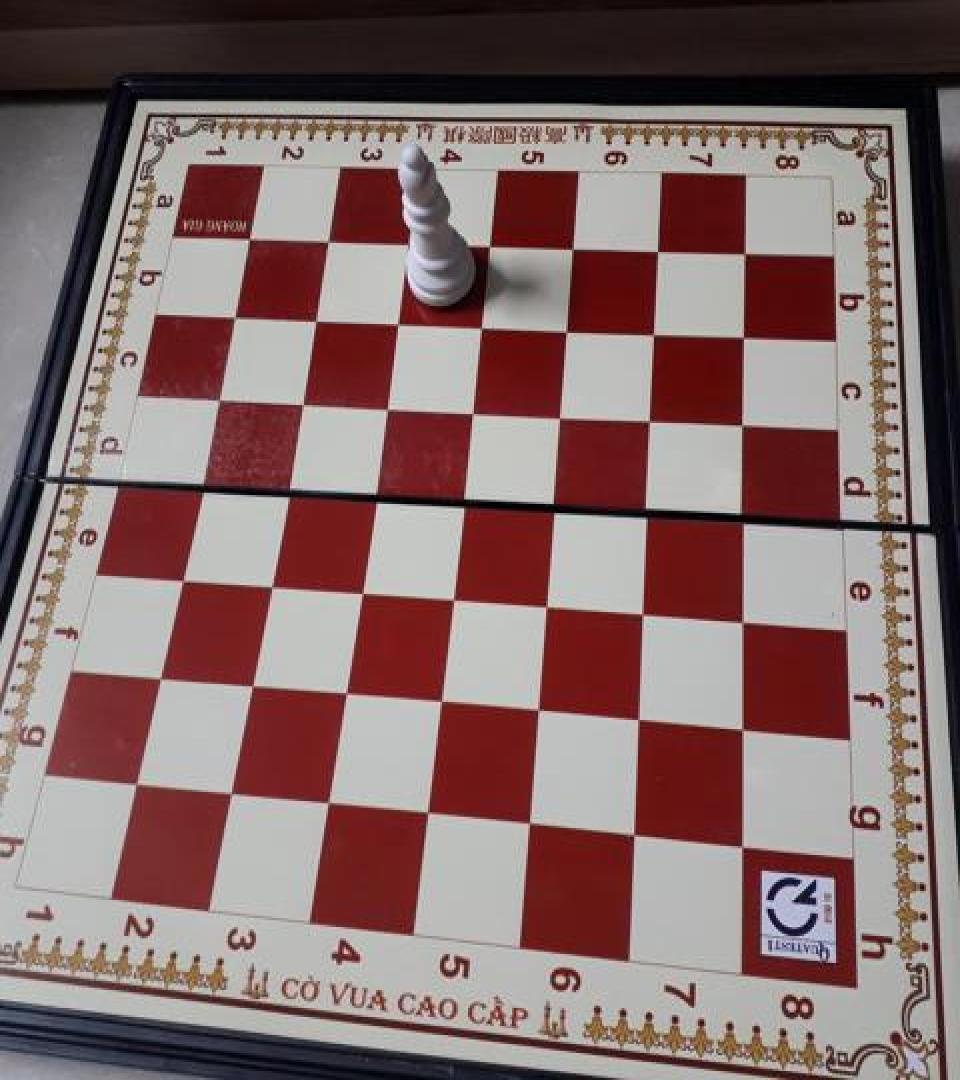xcorner: (728, 237, 764, 278), (471, 228, 507, 269), (389, 226, 425, 267), (727, 318, 763, 359), (462, 307, 498, 348), (295, 300, 331, 341), (727, 406, 763, 447), (535, 487, 571, 528), (265, 469, 301, 510), (433, 577, 469, 618), (340, 570, 376, 611), (617, 813, 653, 854), (512, 802, 548, 843), (640, 234, 676, 274), (554, 232, 590, 272), (309, 224, 345, 264), (230, 222, 266, 262), (637, 315, 673, 355), (549, 312, 585, 352), (378, 304, 414, 344), (214, 297, 250, 337), (633, 402, 669, 442), (542, 396, 578, 436), (453, 392, 489, 432), (366, 387, 402, 427), (281, 383, 317, 423), (198, 378, 234, 418), (726, 500, 762, 540), (630, 494, 666, 534), (443, 482, 479, 522), (353, 475, 389, 515), (180, 464, 216, 504), (726, 601, 762, 641), (626, 593, 662, 633), (528, 585, 564, 625), (249, 563, 285, 603), (160, 556, 196, 596), (726, 709, 762, 749), (621, 699, 657, 739), (520, 690, 556, 730), (421, 681, 457, 721), (325, 672, 361, 712), (231, 663, 267, 703), (140, 655, 176, 695), (725, 826, 761, 866), (409, 792, 445, 832), (309, 781, 345, 821), (212, 771, 248, 811), (118, 761, 154, 801)
